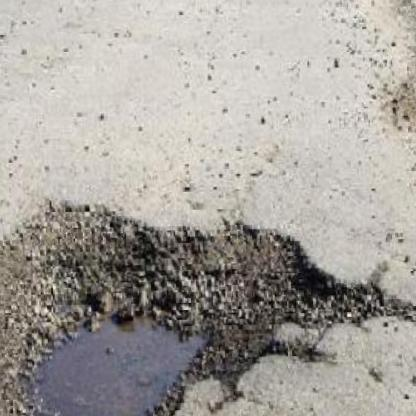pothole: (0, 189, 371, 416)
